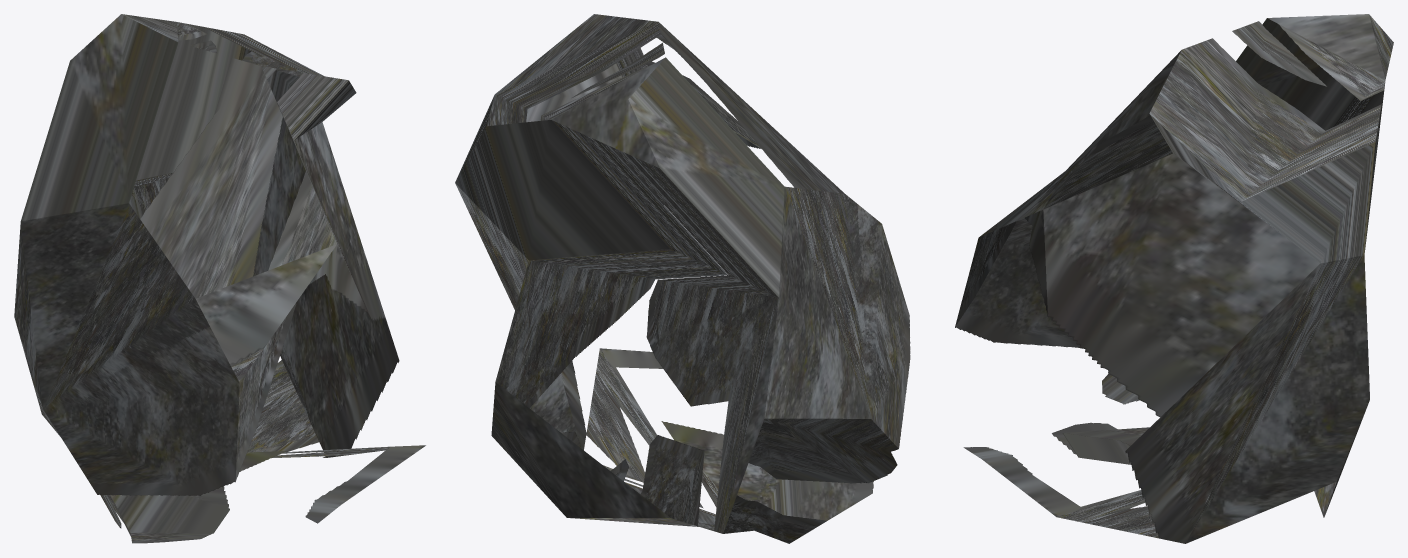
Rendered from rock5_extruded.fbx.
The picture shows the model from 3 angles, left to right: view 1: azimuth 30°, elevation 25°; view 2: azimuth 150°, elevation 25°; view 3: azimuth 270°, elevation 25°; orthographic projection. The views are drawn at different scales.
Visible parts, largest first — view 1: Cube.001; view 2: Cube.001; view 3: Cube.001.
Part boxes in pixels (x1,y1,x2,y2): Cube.001: (14, 14, 425, 543); Cube.001: (455, 14, 910, 543); Cube.001: (955, 14, 1393, 543).
Bounding box in the file's own units: 791 × 1026 × 832.
1 material, 1 textured.
